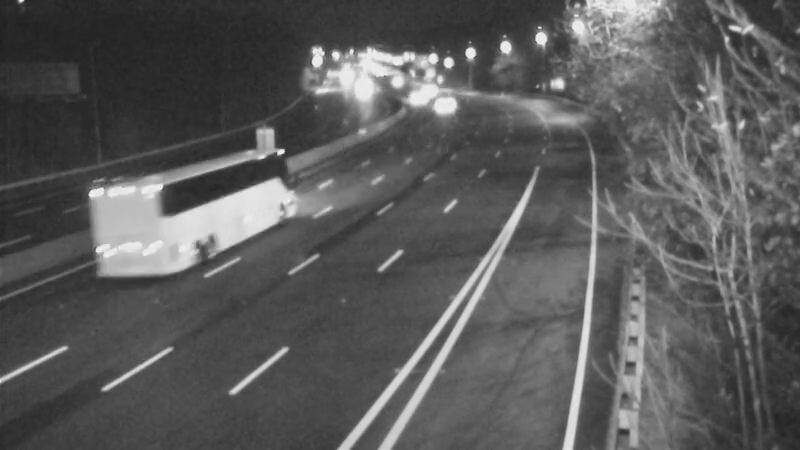vehicle: (172, 183, 252, 263), (369, 58, 419, 108), (390, 74, 440, 124), (423, 86, 473, 136)
